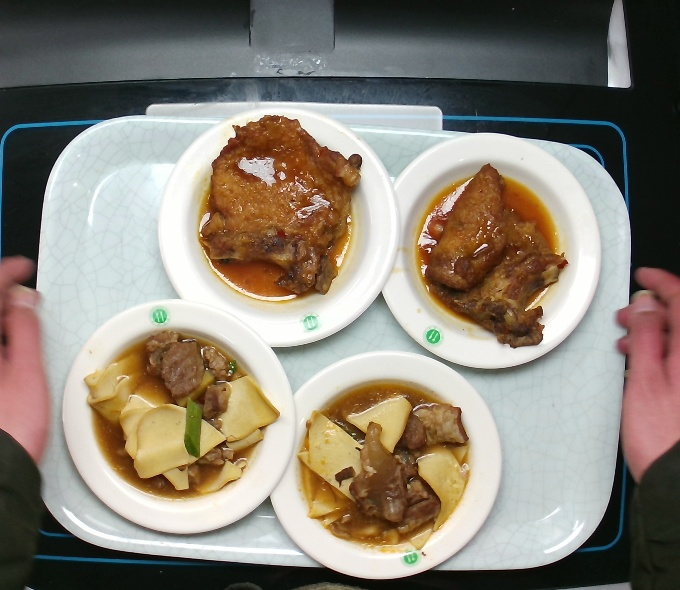wcq-DaPai: (192, 111, 368, 309), (408, 158, 572, 354)
wcq-QianZhangNiuRou: (78, 321, 284, 505), (289, 376, 477, 558)
